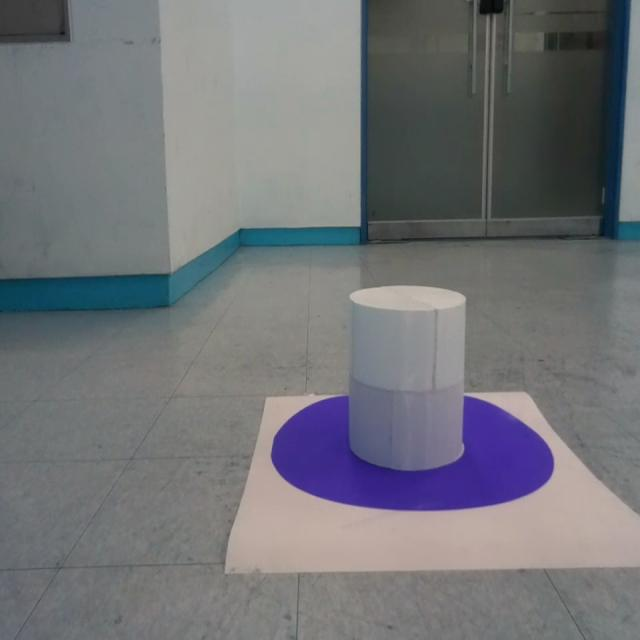cylinder: (348, 284, 468, 471)
